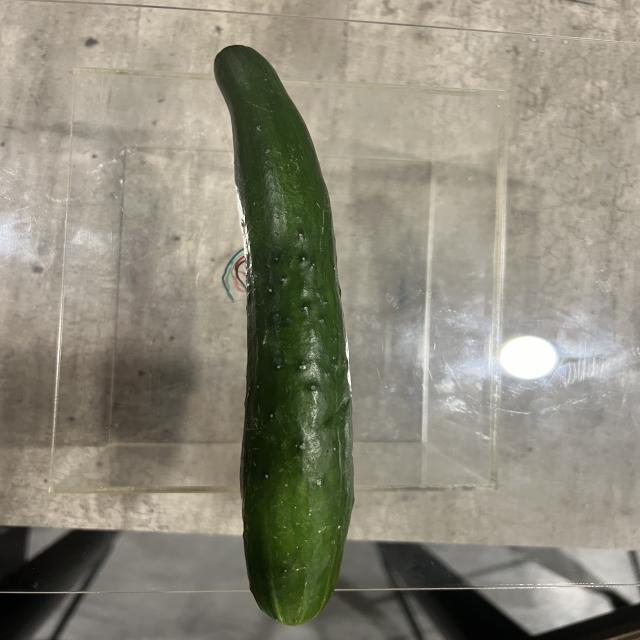cucumber: (210, 42, 350, 626)
